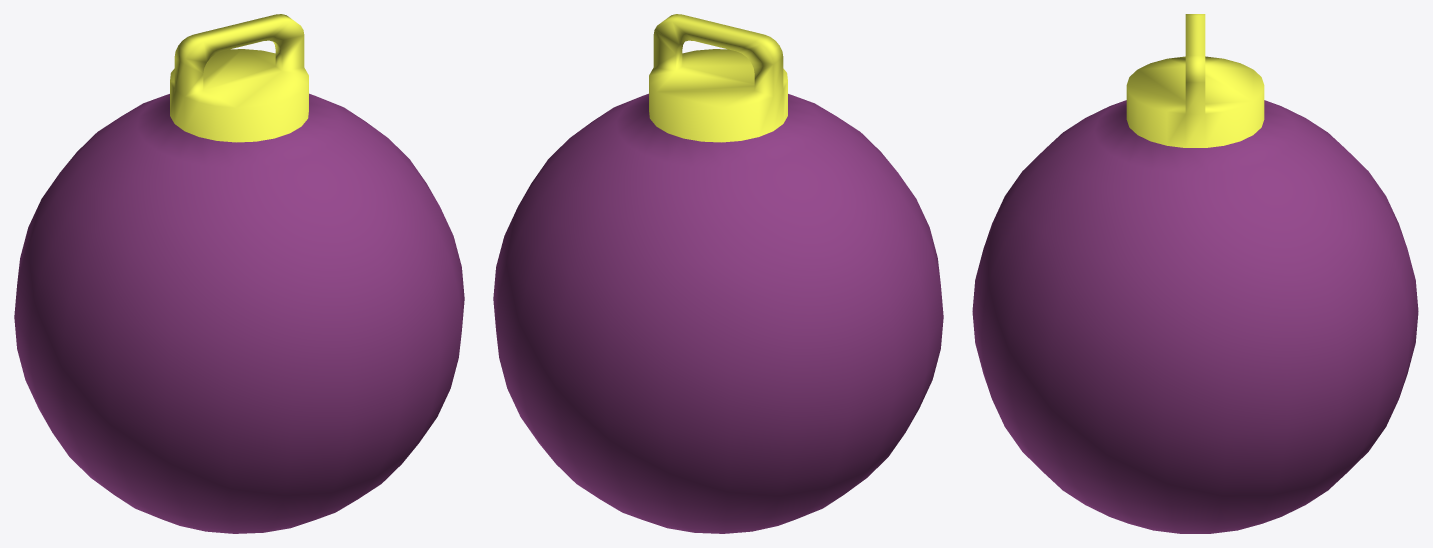
3 renders of one model, left to right at view 1: azimuth 30°, elevation 25°; view 2: azimuth 150°, elevation 25°; view 3: azimuth 270°, elevation 25°, orthographic.
Visible parts, largest first — view 1: Sphere.003; view 2: Sphere.003; view 3: Sphere.003.
Part boxes in pixels (x1,y1,x2,y2): Sphere.003: (14, 14, 464, 533); Sphere.003: (493, 14, 943, 533); Sphere.003: (972, 14, 1418, 533).
Bounding box in the file's own units: 2515 × 3005 × 2542.
